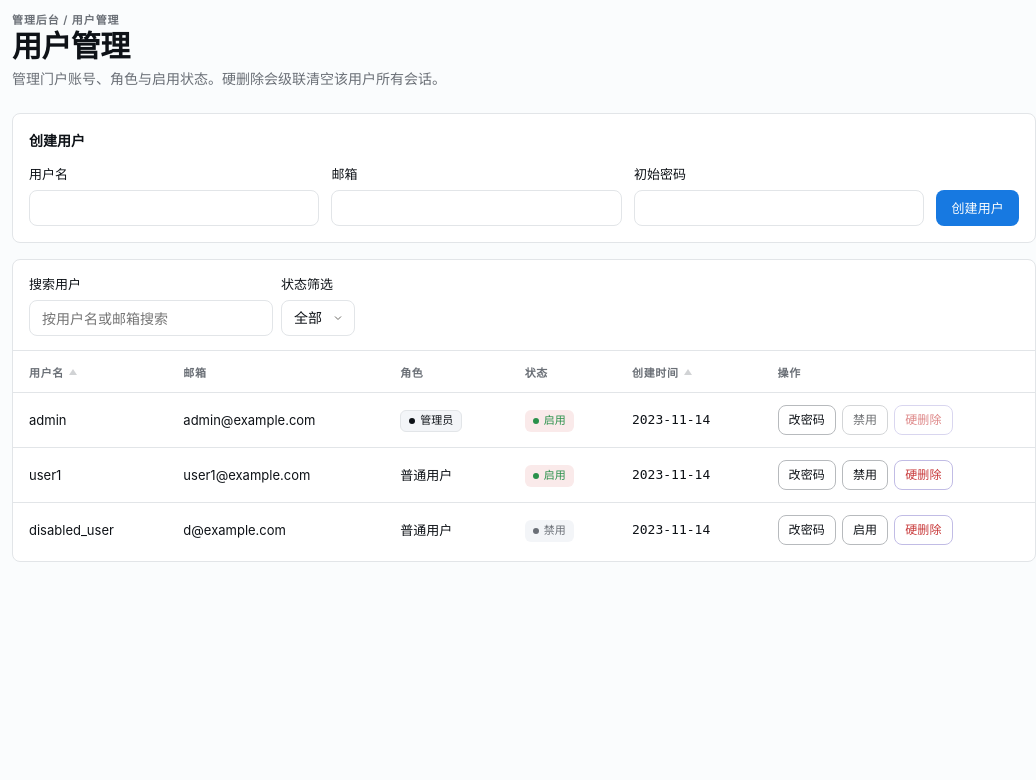
Test: UsersAdminPage › 搜索框按用户名+邮箱不区分大小写模糊匹配
Check: the row with test id "user-row-u_admin" is shown, box [13, 393, 1035, 448]
//  大写搜索用户名
Type "USER1" into the search field labelled "搜索用户" at (151, 318), box [29, 300, 273, 336]
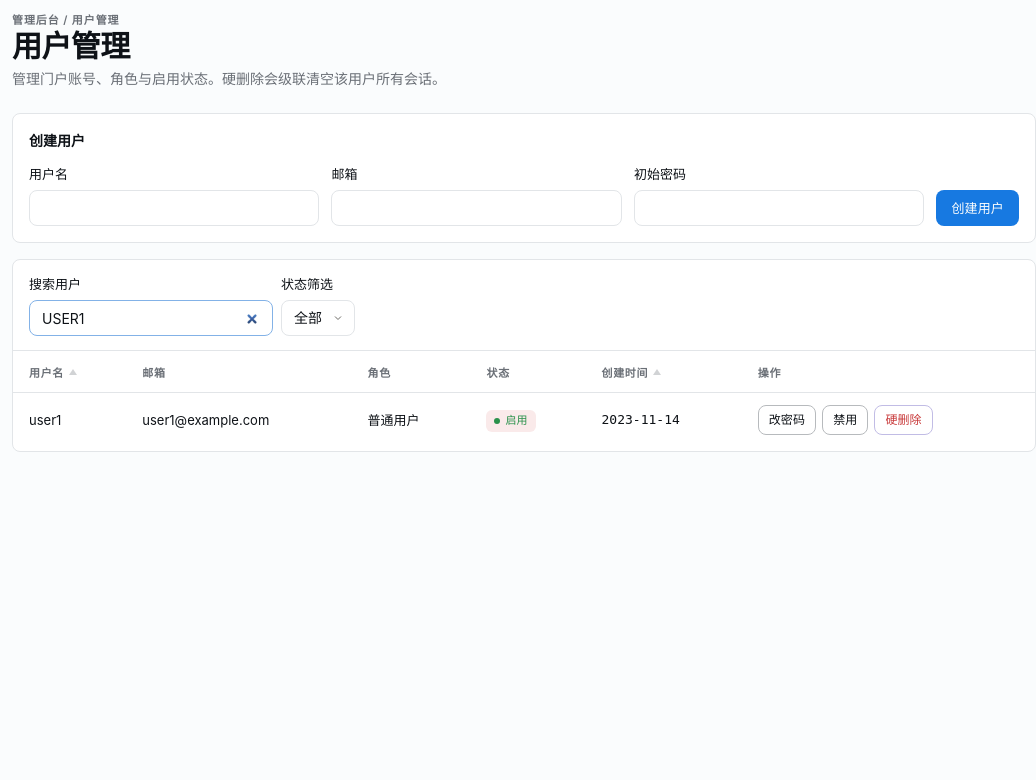
//  清空后改搜邮箱
Replace the text in the search field labelled "搜索用户" with "d@example" at (151, 318), box [29, 300, 273, 336]
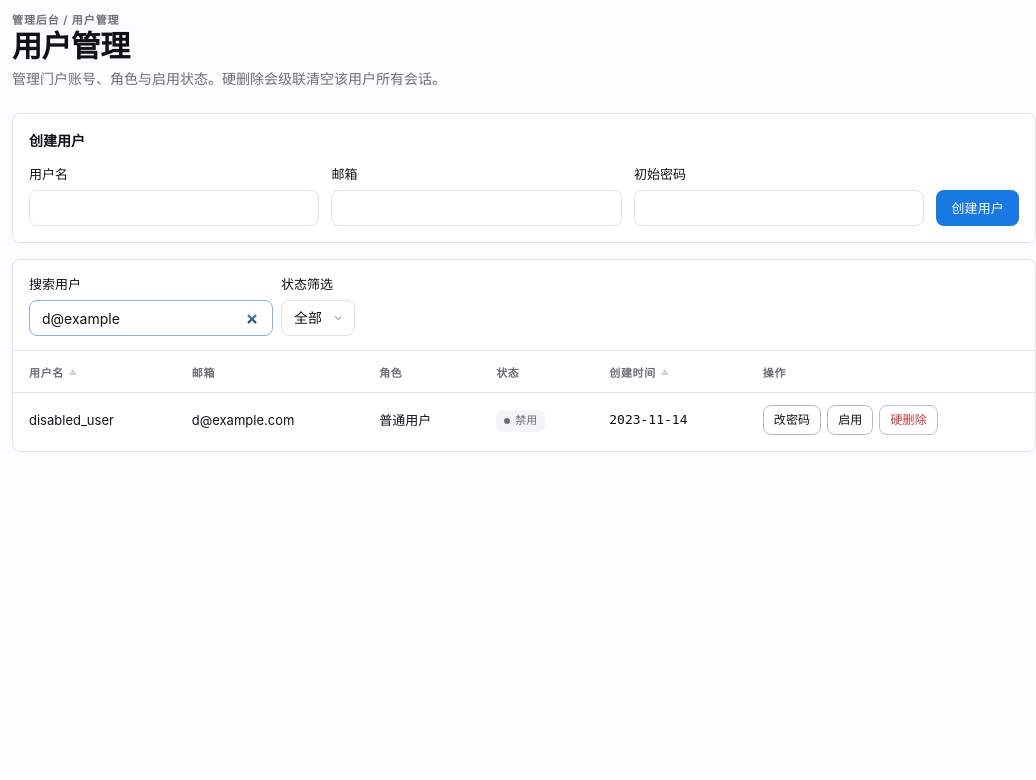
// 无匹配 → 空态提示
Replace the text in the search field labelled "搜索用户" with "nobody" at (151, 318), box [29, 300, 273, 336]
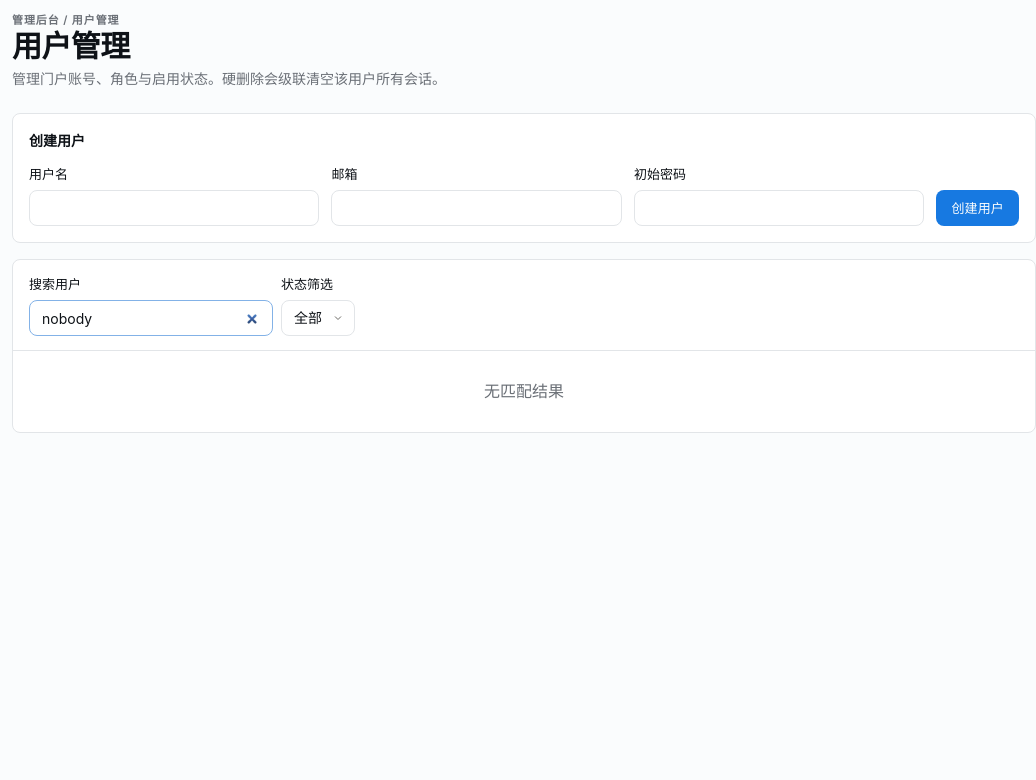
Check: the text "无匹配结果" is shown, box [484, 381, 564, 401]
